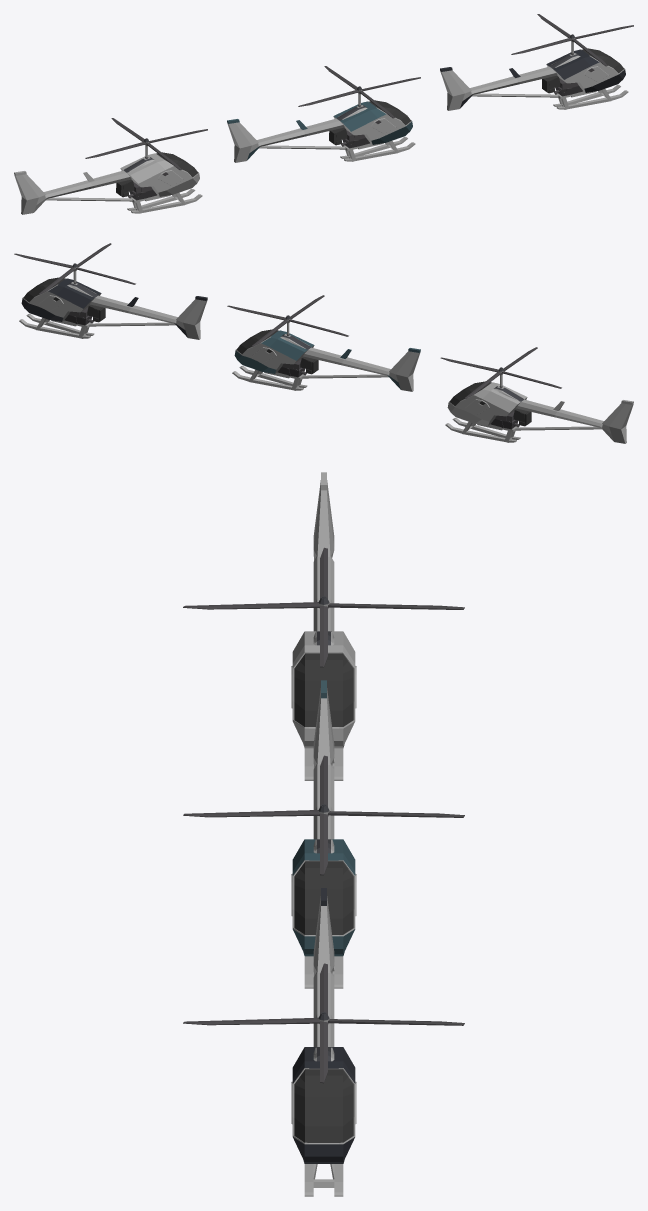
Rendered from Stunt Helicopter.fbx.
3 views of the same model, one above another, from view 1: azimuth 30°, elevation 25°; view 2: azimuth 150°, elevation 25°; view 3: azimuth 270°, elevation 25° (orthographic). The views are drawn at different scales.
Parts seen in each view (by area): view 1: Stunt Helicopter Blue, Stunt Helicopter, Stunt Helicopter Black, Cube.009, Cube.001, Cube.007; view 2: Stunt Helicopter Black, Stunt Helicopter, Stunt Helicopter Blue, Cube.007, Cube.009, Cube.001; view 3: Stunt Helicopter Black, Stunt Helicopter, Stunt Helicopter Blue, Cube.009, Cube.001, Cube.007.
Part boxes in pixels (x1,y1,x2,y2): Stunt Helicopter Blue: (227, 100, 415, 162); Stunt Helicopter: (14, 152, 202, 214); Stunt Helicopter Black: (440, 48, 628, 110); Cube.009: (85, 118, 207, 170); Cube.001: (298, 66, 420, 118); Cube.007: (511, 14, 633, 66); Stunt Helicopter Black: (19, 277, 207, 339); Stunt Helicopter: (445, 381, 633, 443); Stunt Helicopter Blue: (232, 329, 420, 391); Cube.007: (14, 243, 135, 294); Cube.009: (440, 347, 561, 398); Cube.001: (227, 295, 348, 346); Stunt Helicopter Black: (291, 888, 356, 1196); Stunt Helicopter: (291, 472, 356, 780); Stunt Helicopter Blue: (291, 680, 356, 988); Cube.009: (183, 547, 464, 667); Cube.001: (183, 755, 464, 875); Cube.007: (183, 963, 464, 1083).
Bounding box in the file's own units: 29.07 × 3.19 × 5.74.
